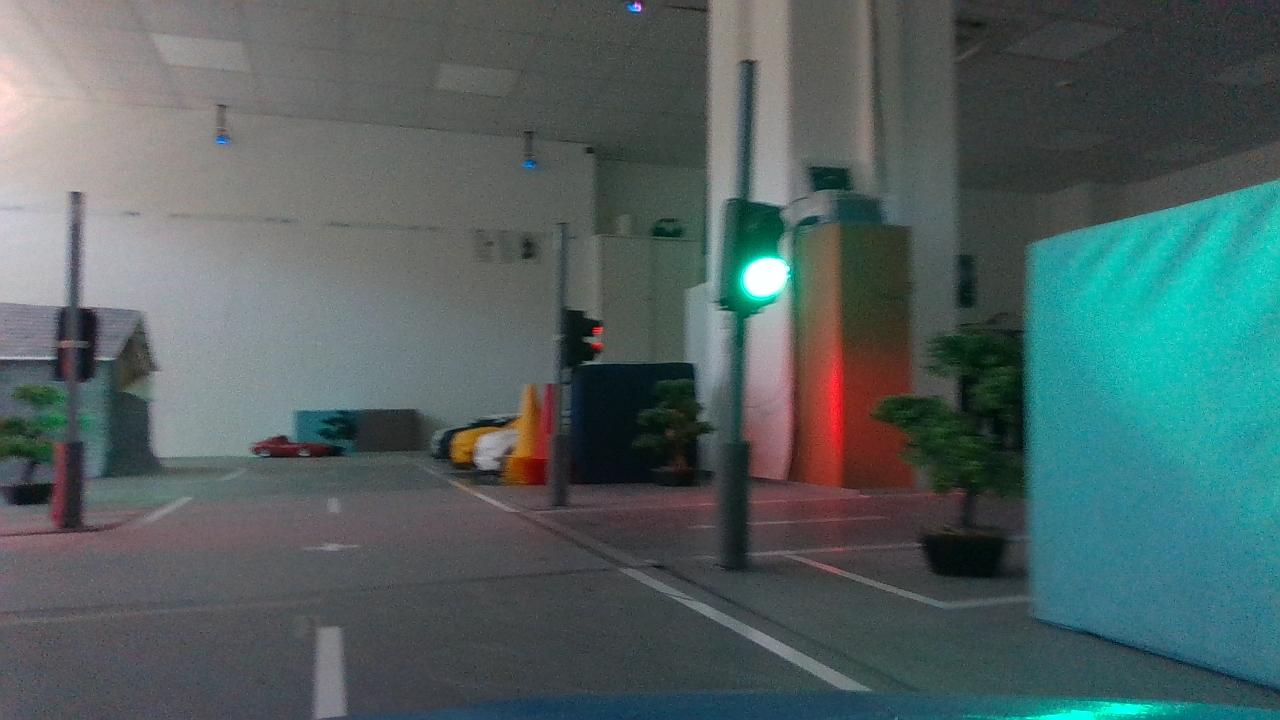traffic_light_green: (704, 182, 806, 324)
